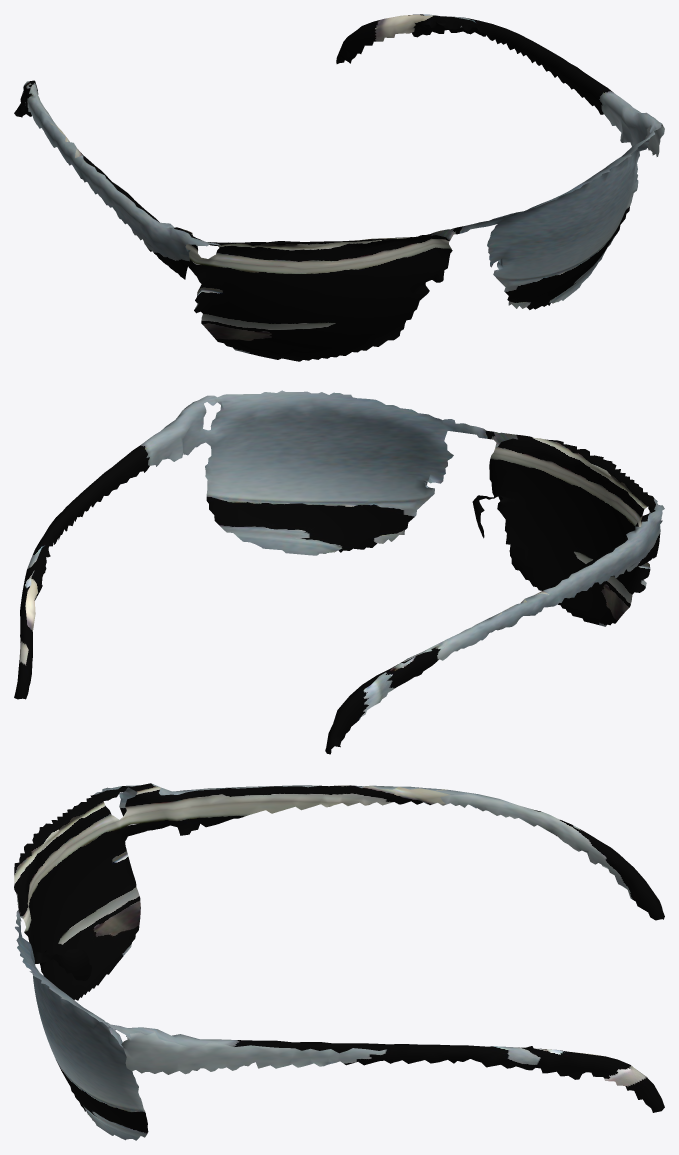
Rendered from scan_align.obj.
3 views of the same model, one above another, from view 1: azimuth 30°, elevation 25°; view 2: azimuth 150°, elevation 25°; view 3: azimuth 270°, elevation 25° (orthographic). The views are drawn at different scales.
Size of the model in its own units: 0.144 by 0.0407 by 0.1553.
